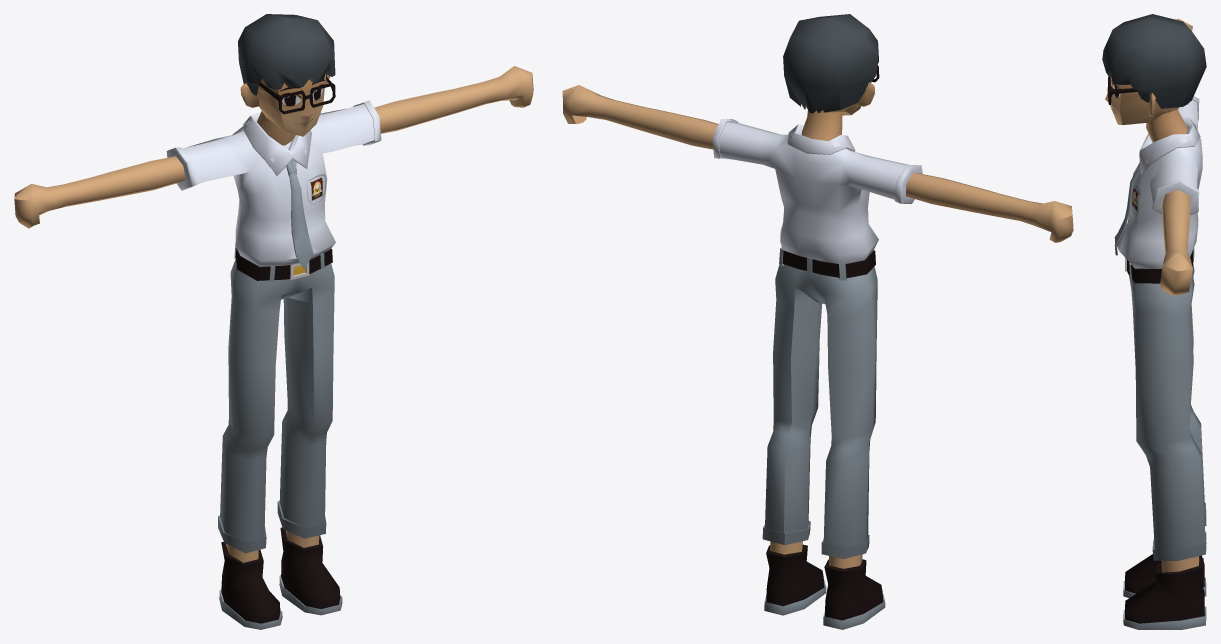
The model's file is bisma caracter2.fbx.
3 renders of one model, left to right at view 1: azimuth 30°, elevation 25°; view 2: azimuth 150°, elevation 25°; view 3: azimuth 270°, elevation 25°, orthographic.
Parts seen in each view (by area): view 1: Cube.002, Cube.003, kepala, glasses; view 2: Cube.002, Cube.003; view 3: Cube.002, Cube.003, kepala, glasses.
Part boxes in pixels (x1=…): Cube.002: x1=14, y1=66, x2=533, y2=629; Cube.003: x1=238, y1=14, x2=335, y2=95; kepala: x1=240, y1=73, x2=329, y2=136; glasses: x1=259, y1=76, x2=335, y2=114; Cube.002: x1=562, y1=85, x2=1073, y2=629; Cube.003: x1=783, y1=14, x2=878, y2=113; Cube.002: x1=1114, y1=18, x2=1206, y2=629; Cube.003: x1=1102, y1=14, x2=1206, y2=108; kepala: x1=1105, y1=77, x2=1178, y2=125; glasses: x1=1107, y1=76, x2=1137, y2=104.
Bounding box in the file's own units: 491 × 536 × 86.43.
Materials: 1 (1 with a texture image).
